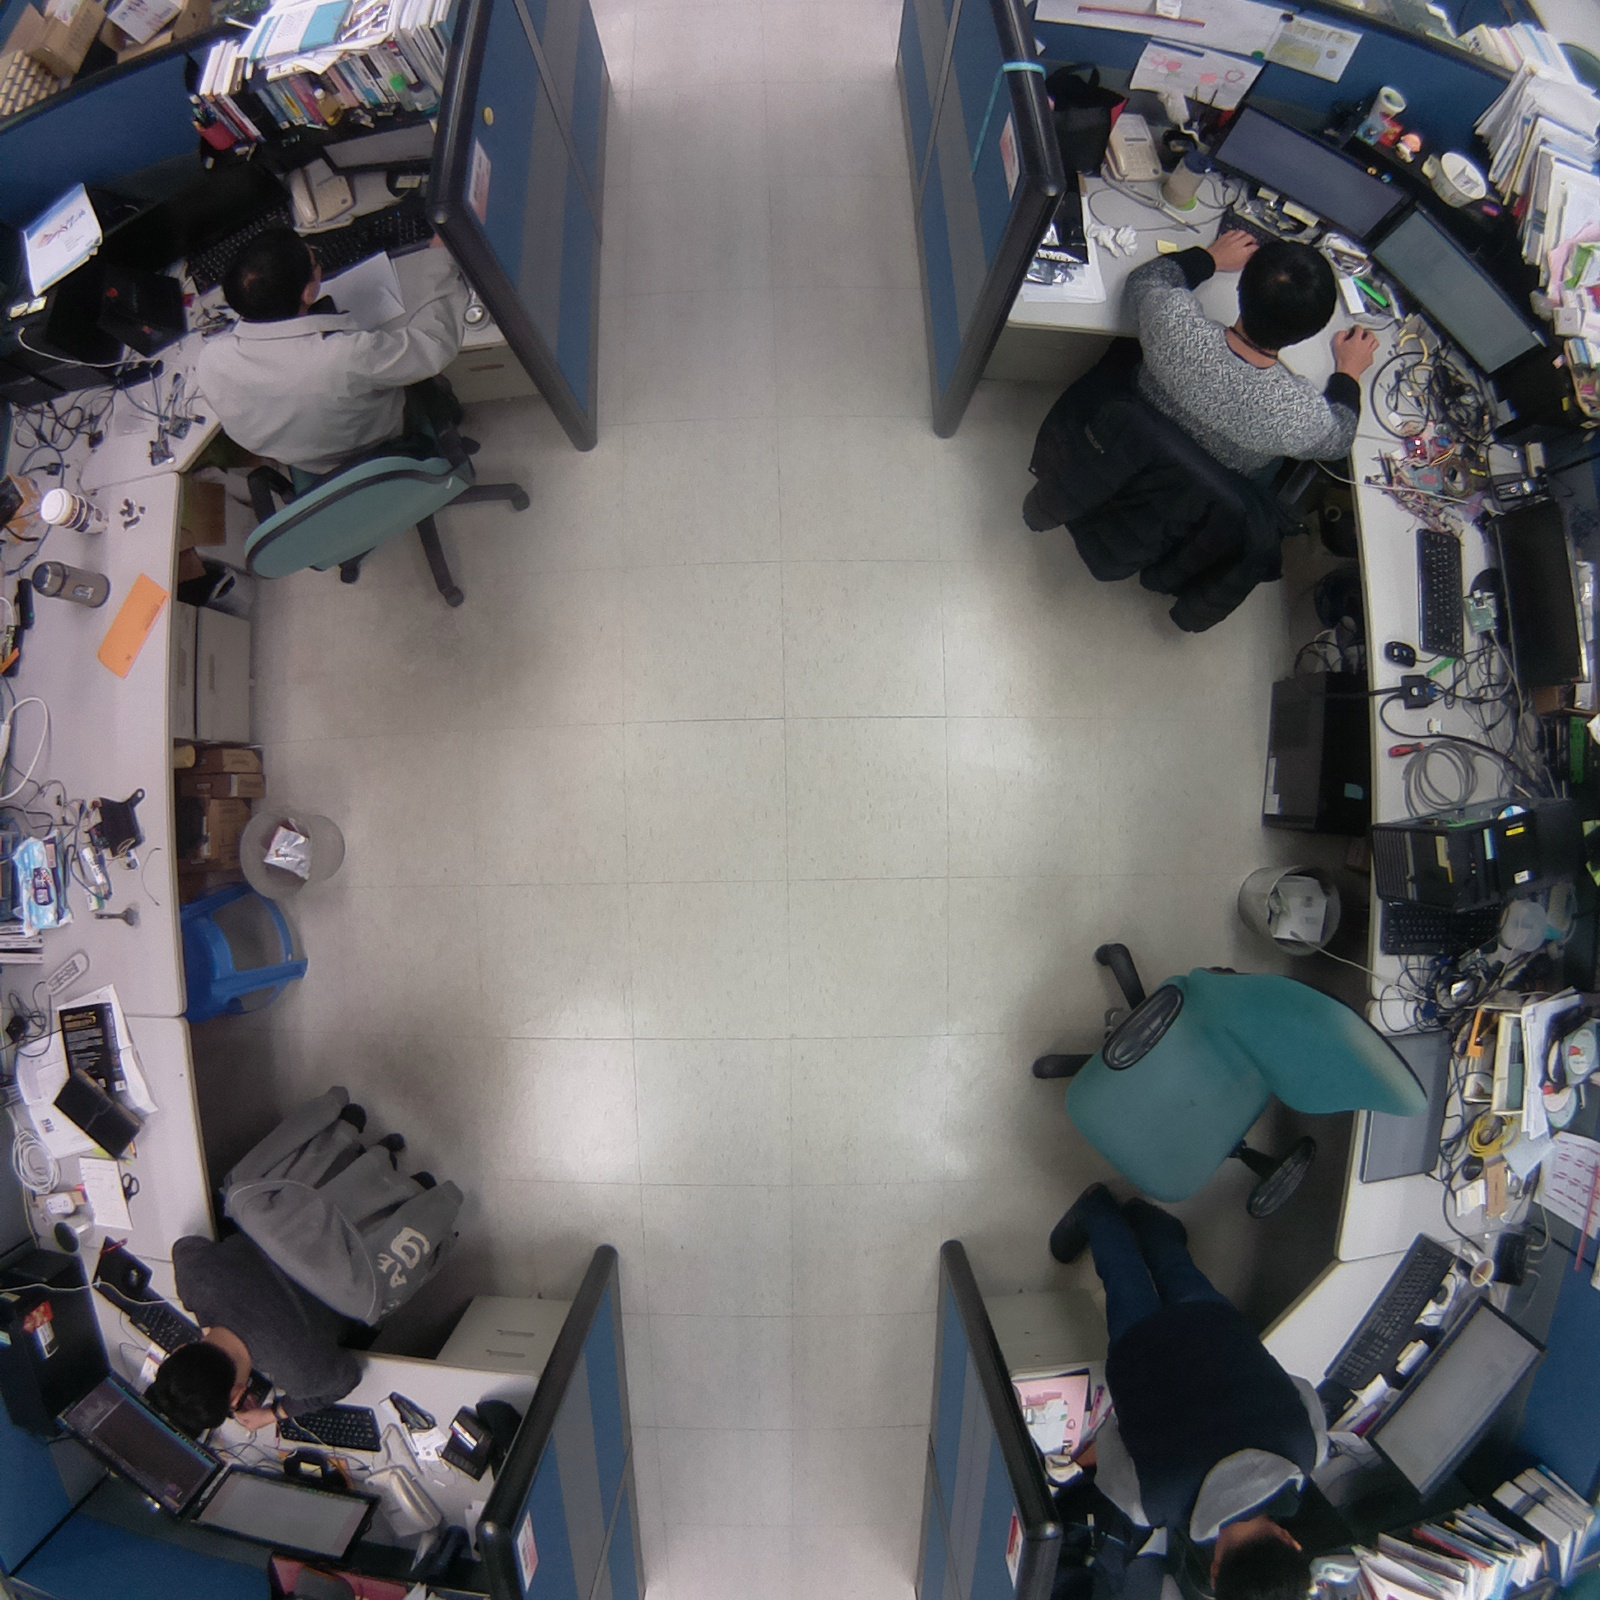chair: (1004, 927, 1440, 1221)
sitting: (986, 217, 1401, 653), (151, 204, 549, 632), (127, 1071, 476, 1467)
standing: (1037, 1171, 1349, 1600)
